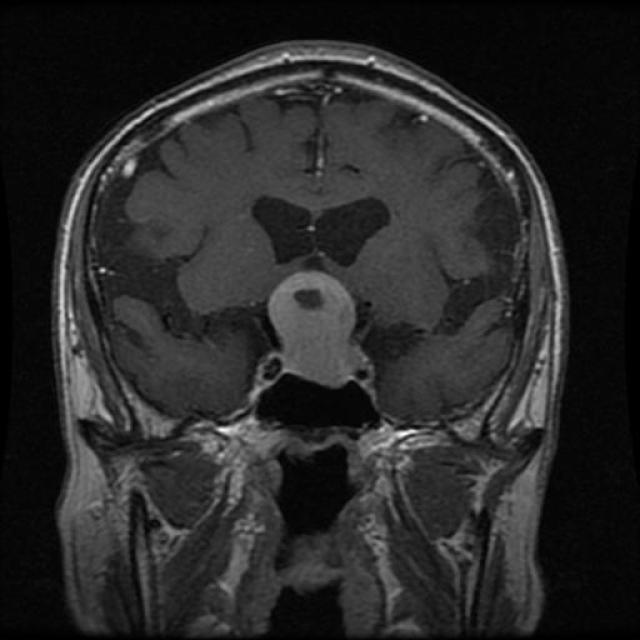pituitary: (256, 266, 377, 406)
